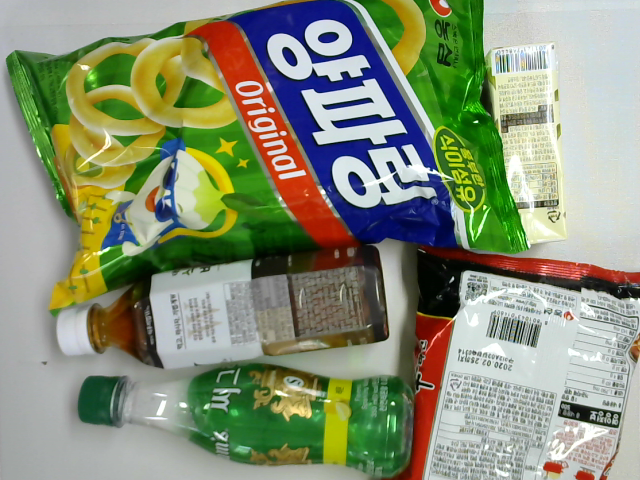99.89_Soymilk: (483, 40, 573, 247)
Oninon_Ring: (3, 1, 531, 316)
Post-meal_recipe_W_tea_500ml: (55, 243, 391, 372)
Seagram_Lemon_Carbonated_Water: (76, 361, 413, 477)
Sinramen: (404, 237, 640, 479)
